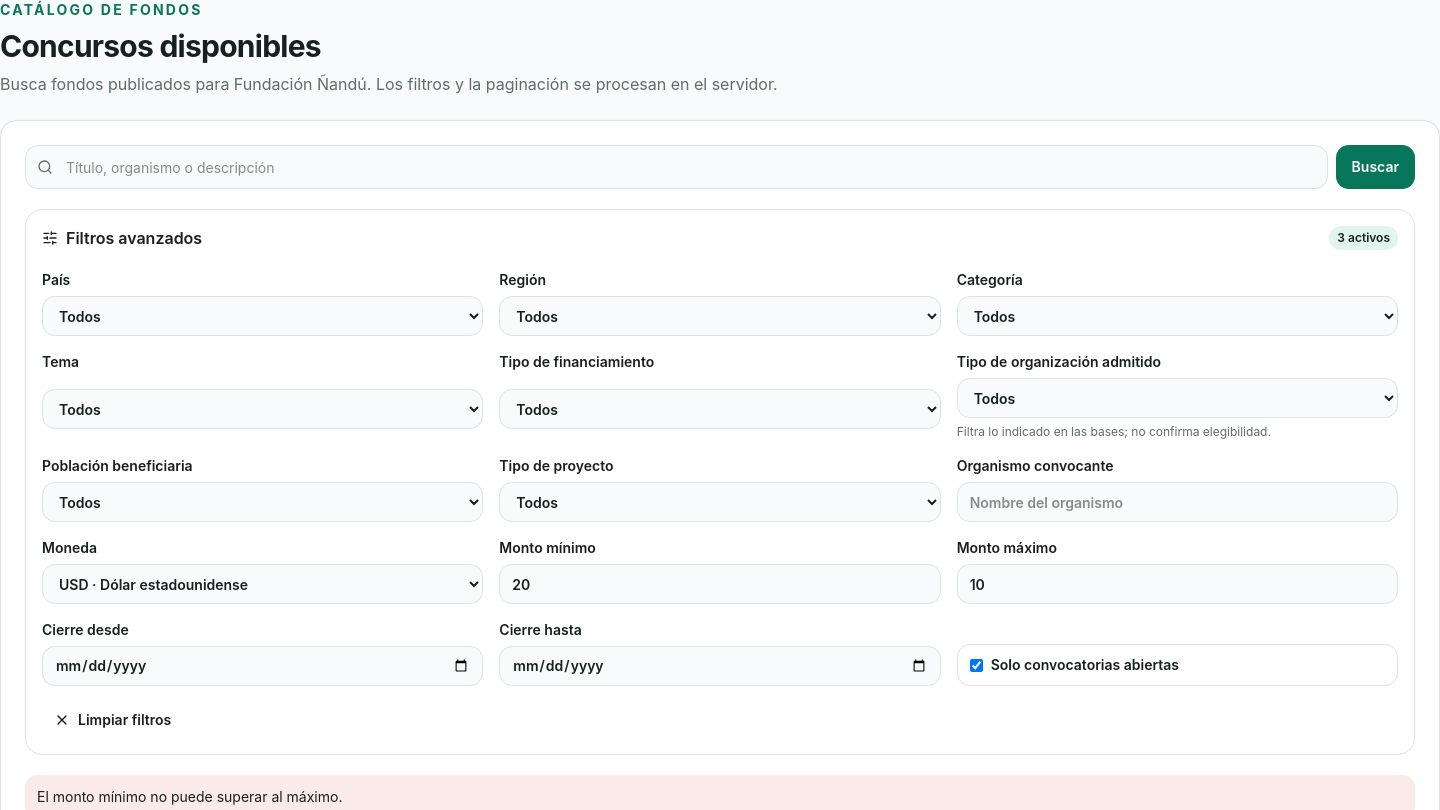
Test: organization funding ES/EN › keeps invalid criteria blocked in both languages (minAmount=20&maxAmount=10&currency=USD)
Expected: the message reads "El monto mínimo no puede superar al máximo.", [37,788,342,805]
Click the heading "Filtros avanzados 3 activos" at (134, 238), box [42,226,1398,250]
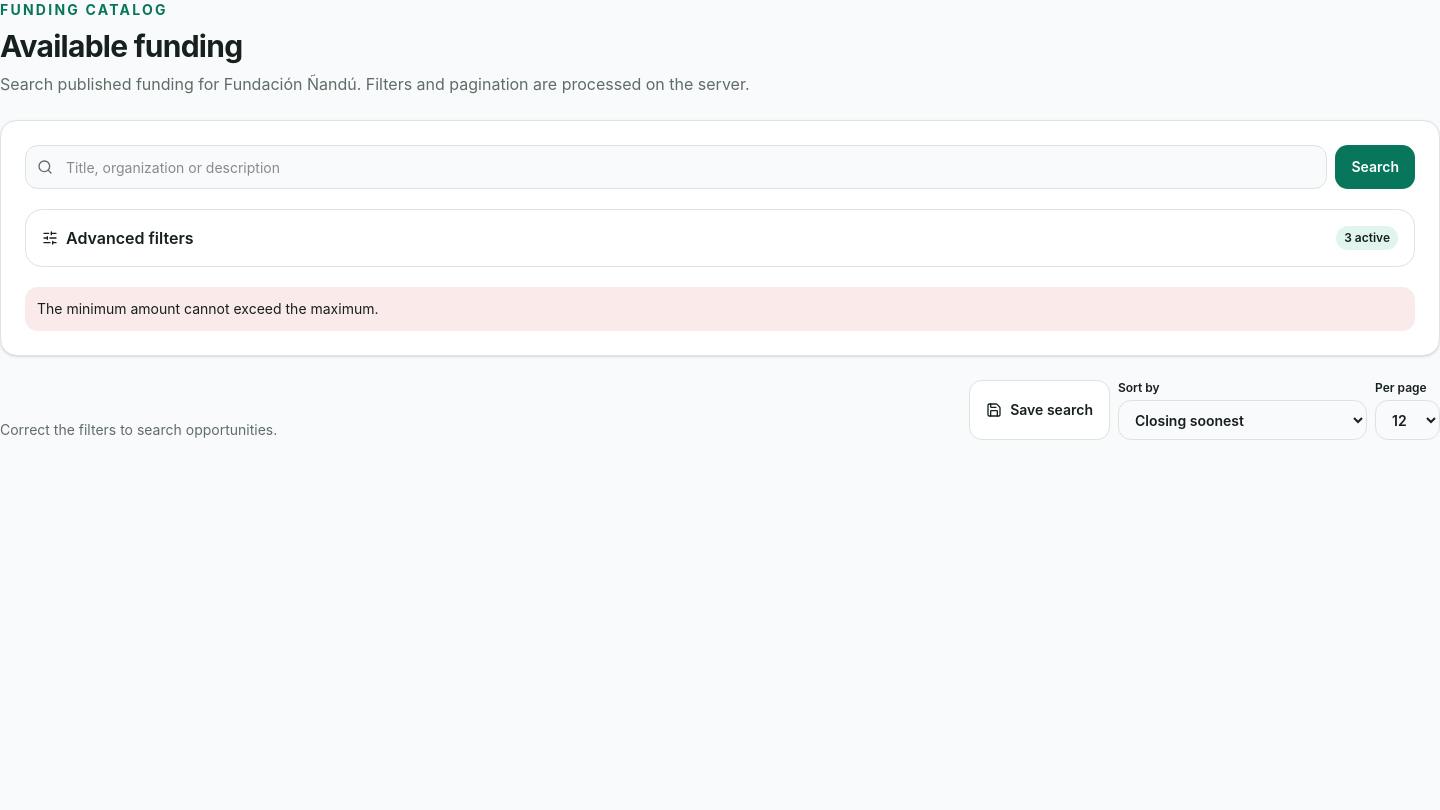
Expected: the message "The minimum amount cannot exceed the maximum." is shown, [25,287,1415,331]
Now the message reads "The minimum amount cannot exceed the maximum.", box [37,300,378,317]
